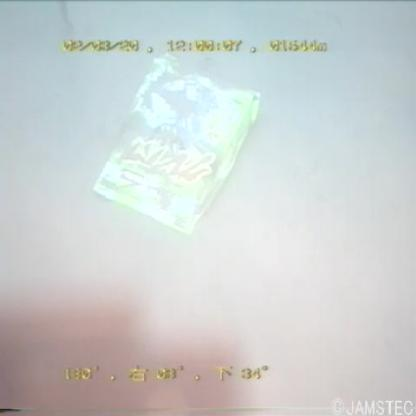Rác: (83, 48, 271, 249)
